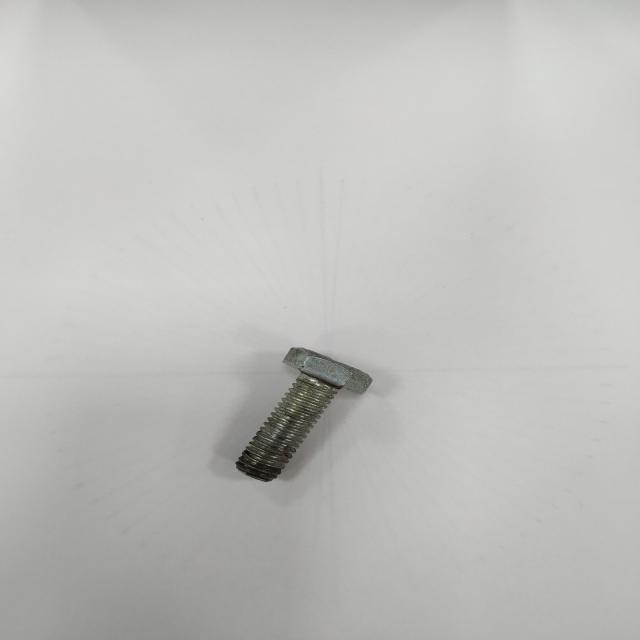Bolt: (237, 348, 372, 481)
